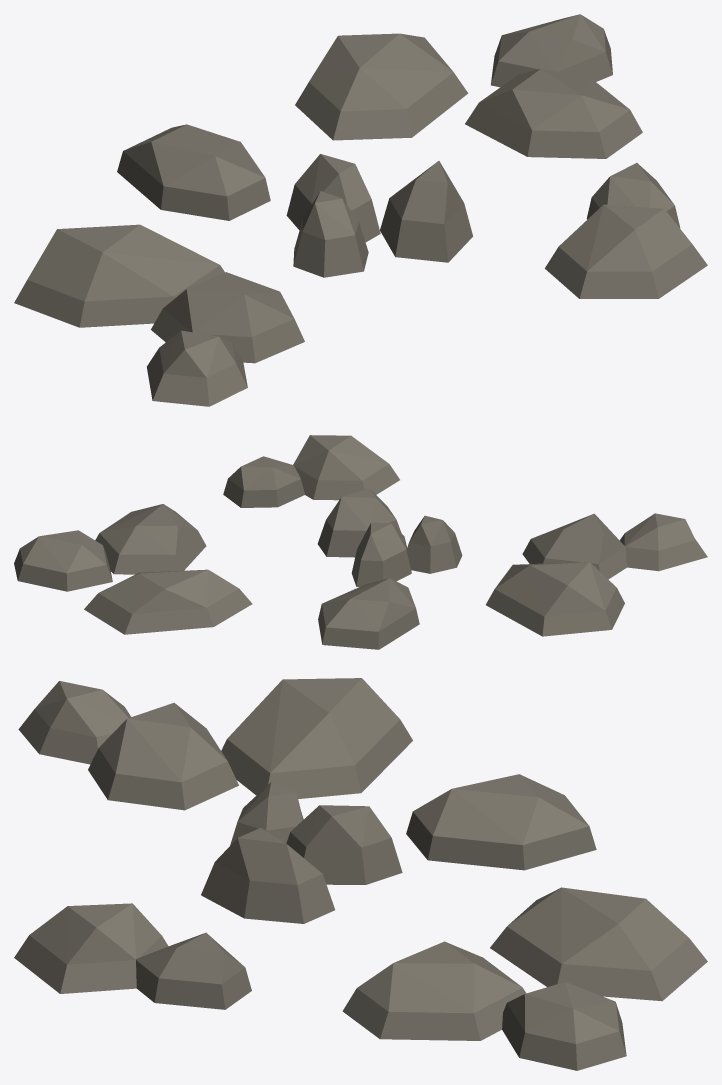
Rendered from pebbles2.glb.
The picture shows the model from 3 angles, top to bottom: view 1: azimuth 30°, elevation 25°; view 2: azimuth 150°, elevation 25°; view 3: azimuth 270°, elevation 25°; orthographic projection. The views are drawn at different scales.
Parts seen in each view (by area): view 1: pebbles2.caves.light; view 2: pebbles2.caves.light; view 3: pebbles2.caves.light.
Boxes of the visible parts, x1,y1,x2,y2 form: pebbles2.caves.light: (14, 14, 707, 406); pebbles2.caves.light: (14, 435, 707, 649); pebbles2.caves.light: (14, 678, 707, 1070).
Size of the model in its own units: 2.23 by 0.1965 by 1.81.
1 material, 1 textured.
